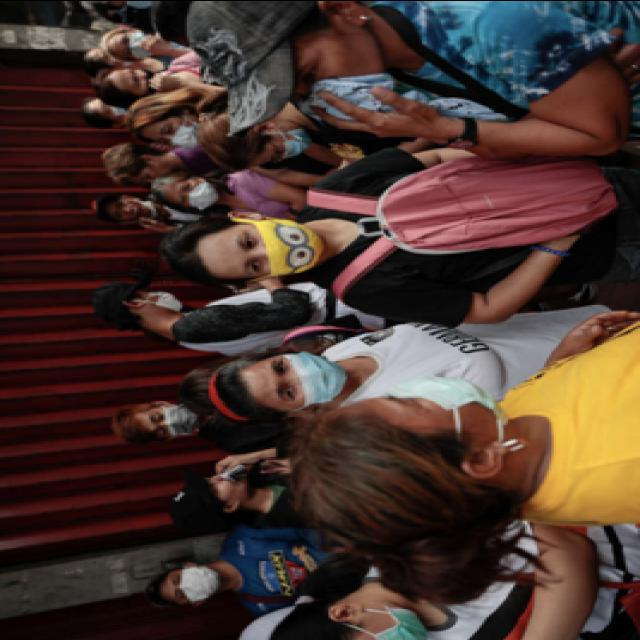mask: (374, 372, 498, 438), (282, 32, 388, 107), (228, 218, 326, 276), (261, 352, 345, 406), (352, 605, 427, 640), (256, 128, 316, 165), (163, 564, 221, 602), (144, 403, 199, 437), (154, 117, 204, 149), (170, 180, 218, 210), (115, 68, 158, 95), (115, 34, 153, 58), (144, 290, 182, 308)
no_mask: (206, 470, 252, 500), (108, 198, 154, 220)
